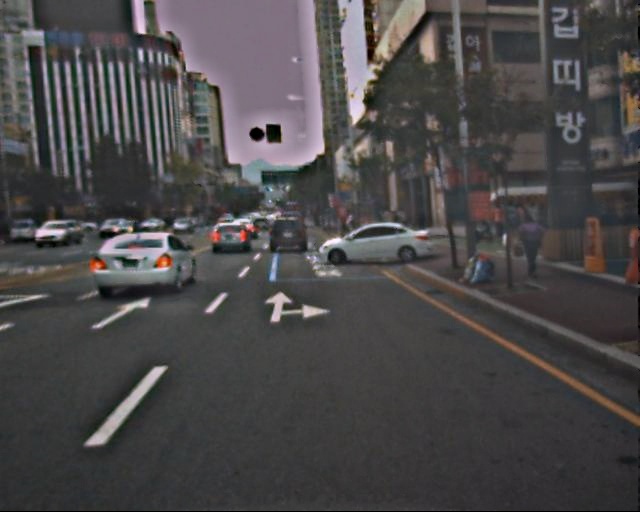person: (516, 213, 544, 282), (499, 195, 524, 256)
